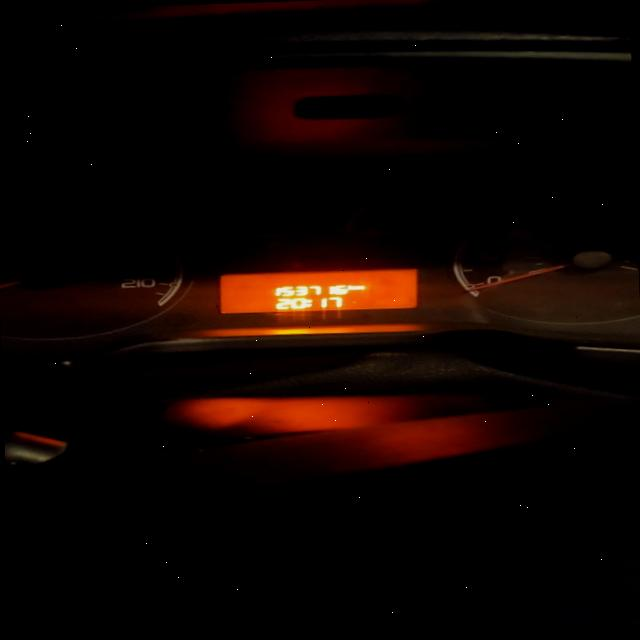odometer: (218, 266, 418, 314)
